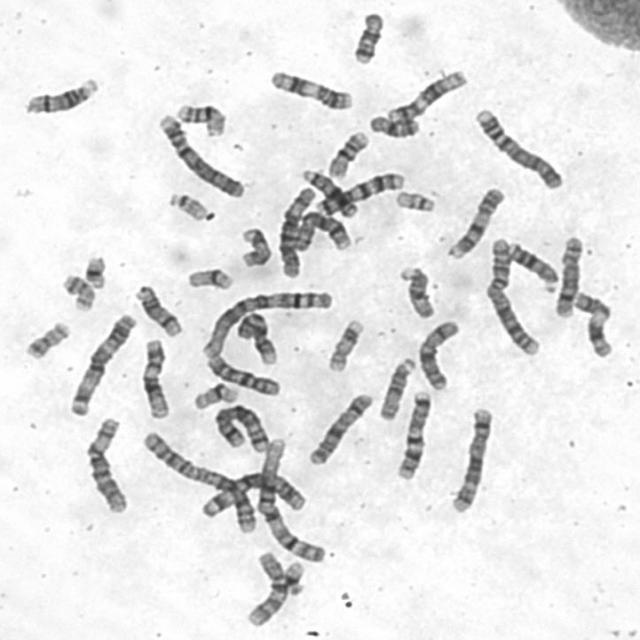A1: (196, 286, 336, 359), (252, 433, 328, 566)
A2: (136, 426, 259, 536), (481, 233, 542, 357)
A3: (64, 309, 138, 418), (196, 469, 308, 521)
B4: (152, 108, 246, 200), (470, 104, 566, 191)
B5: (446, 403, 494, 515), (208, 400, 270, 454)
C10: (242, 548, 290, 628), (201, 351, 282, 397)
C11: (265, 65, 355, 112), (568, 287, 616, 360)
C12: (382, 65, 470, 124), (137, 334, 172, 421)
C6: (80, 413, 130, 515), (272, 183, 318, 280)
C7: (310, 168, 406, 218), (392, 386, 434, 482)
C8: (549, 231, 585, 319), (288, 208, 354, 254)
C9: (444, 183, 507, 260), (232, 309, 278, 366)
D13: (502, 236, 561, 295), (297, 164, 358, 218)
D14: (20, 73, 100, 116), (130, 280, 184, 338)
D15: (374, 352, 418, 422), (395, 262, 437, 321)
E16: (322, 127, 370, 180), (172, 98, 228, 138)
E17: (323, 314, 366, 374), (236, 222, 274, 268)
E18: (348, 8, 385, 65), (365, 111, 421, 139)
F19: (188, 379, 241, 410), (181, 264, 235, 292)
F20: (19, 316, 72, 361), (58, 269, 96, 313)
G21: (79, 250, 109, 290), (278, 556, 306, 598)
G22: (163, 188, 210, 223), (391, 186, 436, 214)
X: (302, 388, 374, 466), (413, 316, 462, 392)
